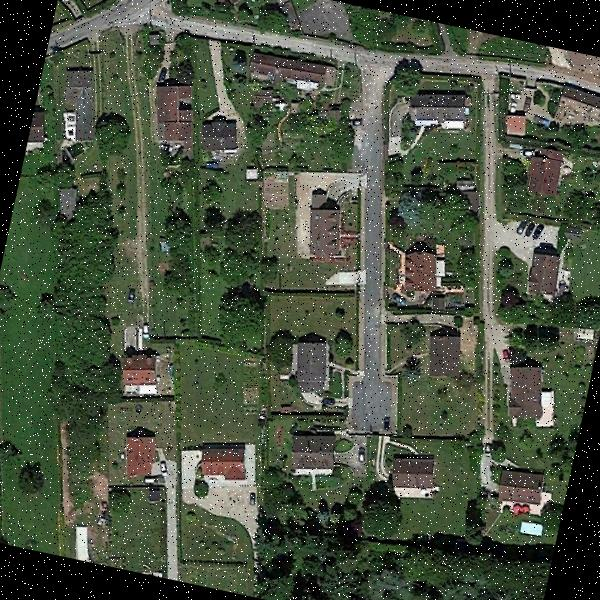Buildings: (241, 44, 339, 92), (401, 82, 481, 134), (186, 441, 256, 491), (501, 362, 550, 421), (395, 244, 443, 304), (62, 71, 104, 137), (286, 349, 342, 398), (298, 209, 352, 256), (524, 246, 564, 308), (493, 470, 548, 514), (288, 436, 340, 482), (422, 334, 465, 384), (550, 87, 600, 130), (150, 90, 195, 137), (117, 351, 164, 396), (118, 437, 166, 481), (525, 150, 565, 195), (392, 453, 435, 492), (27, 103, 48, 146)
